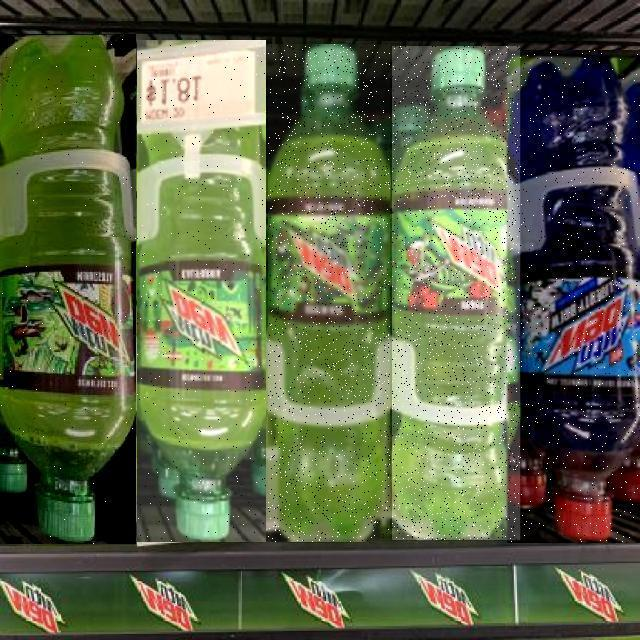Drinks: (1, 34, 137, 544), (507, 50, 640, 543), (137, 41, 266, 543), (392, 46, 520, 540), (268, 44, 390, 542)
